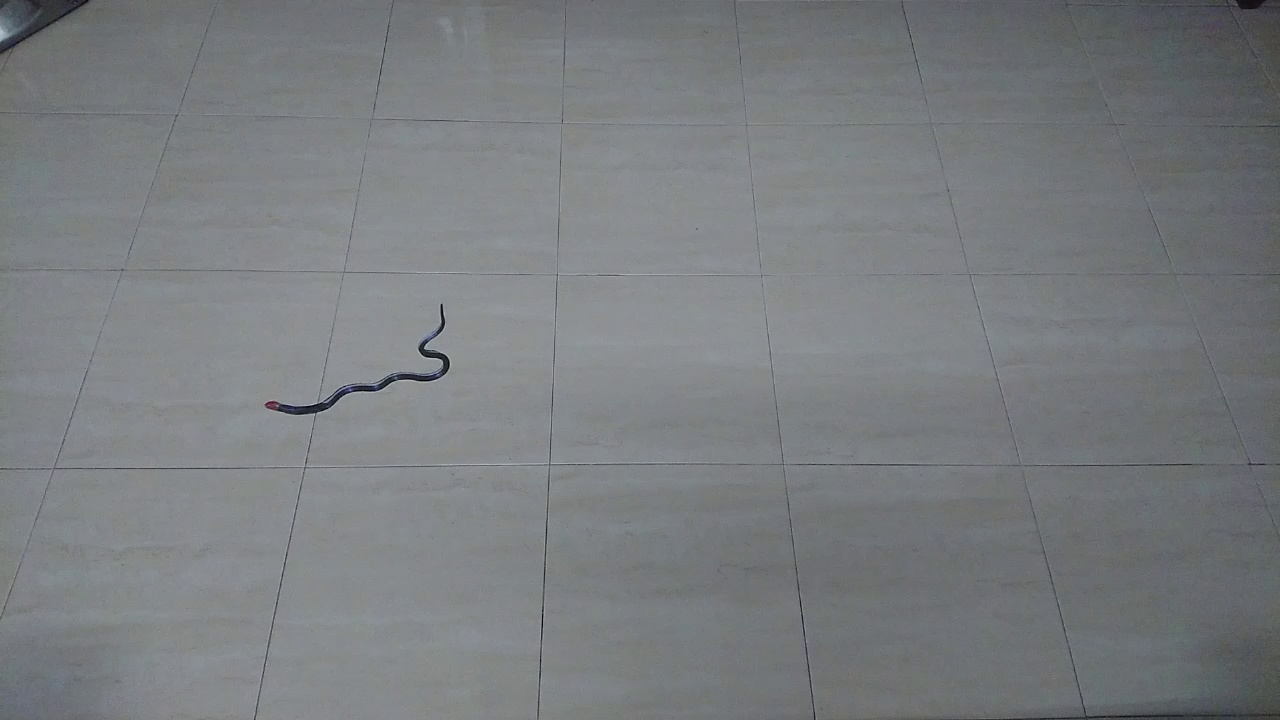snake: (251, 293, 460, 429)
